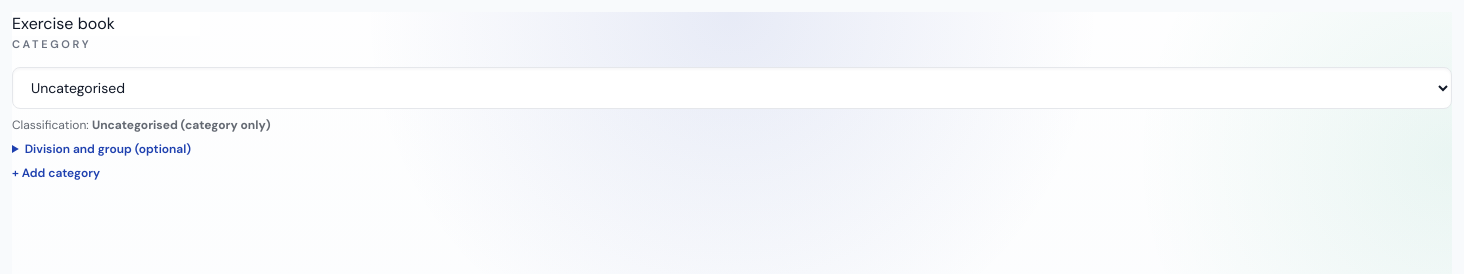
Test: adds a category inline and preserves the unsaved product fields
This screenshot has width=1464, height=274.
Click the button "+ Add category" at (56, 172), box [12, 164, 100, 180]
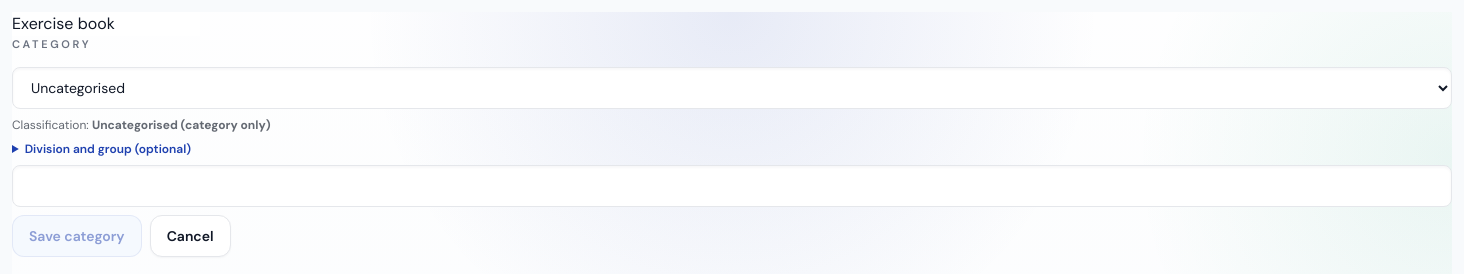
Type "Stationery" into the field named "New category name" at (732, 186), box [12, 164, 1452, 206]
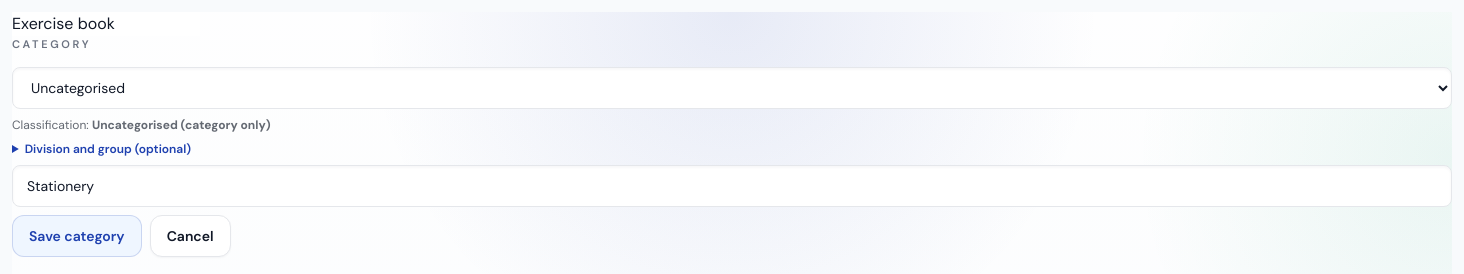
Click the button "Save category" at (77, 236), box [12, 214, 142, 256]
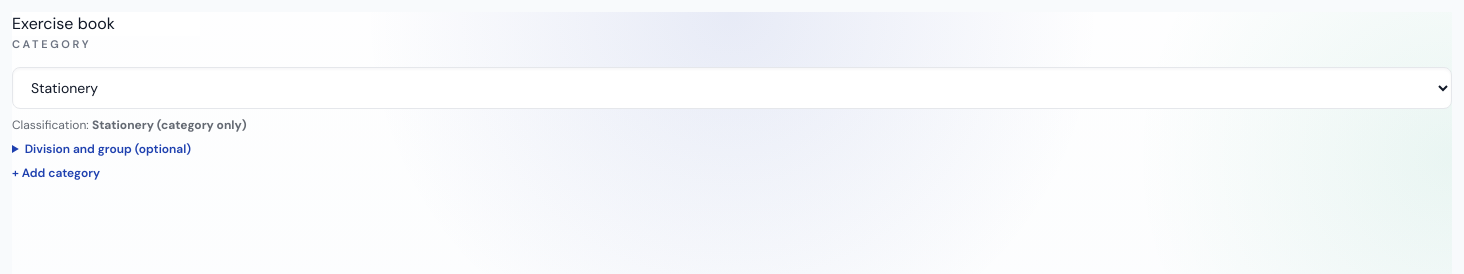
Check: the field named "Product name" holds "Exercise book", box [12, 12, 200, 36]
Check: the dropdown shows "Stationery", box [12, 66, 1452, 108]
